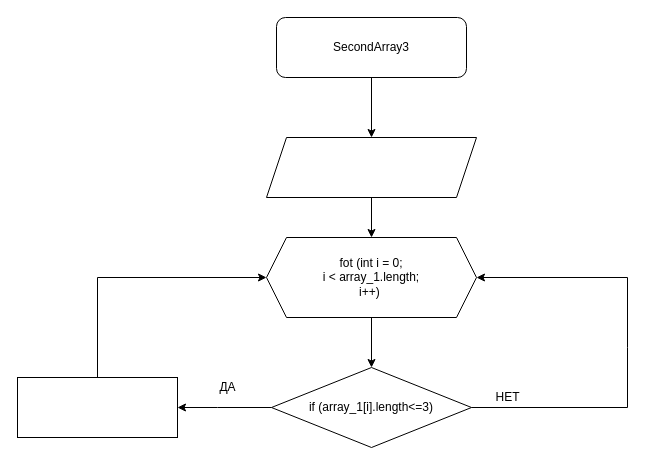
This 653x465 diagram has some shape labels left out. The centre of each missing label's shape, as x and y in pixels:
array_2 [count] = array_1 [i]; count++: the point at 97,407
string array_1 string array_2 int count = 0: the point at 371,167
